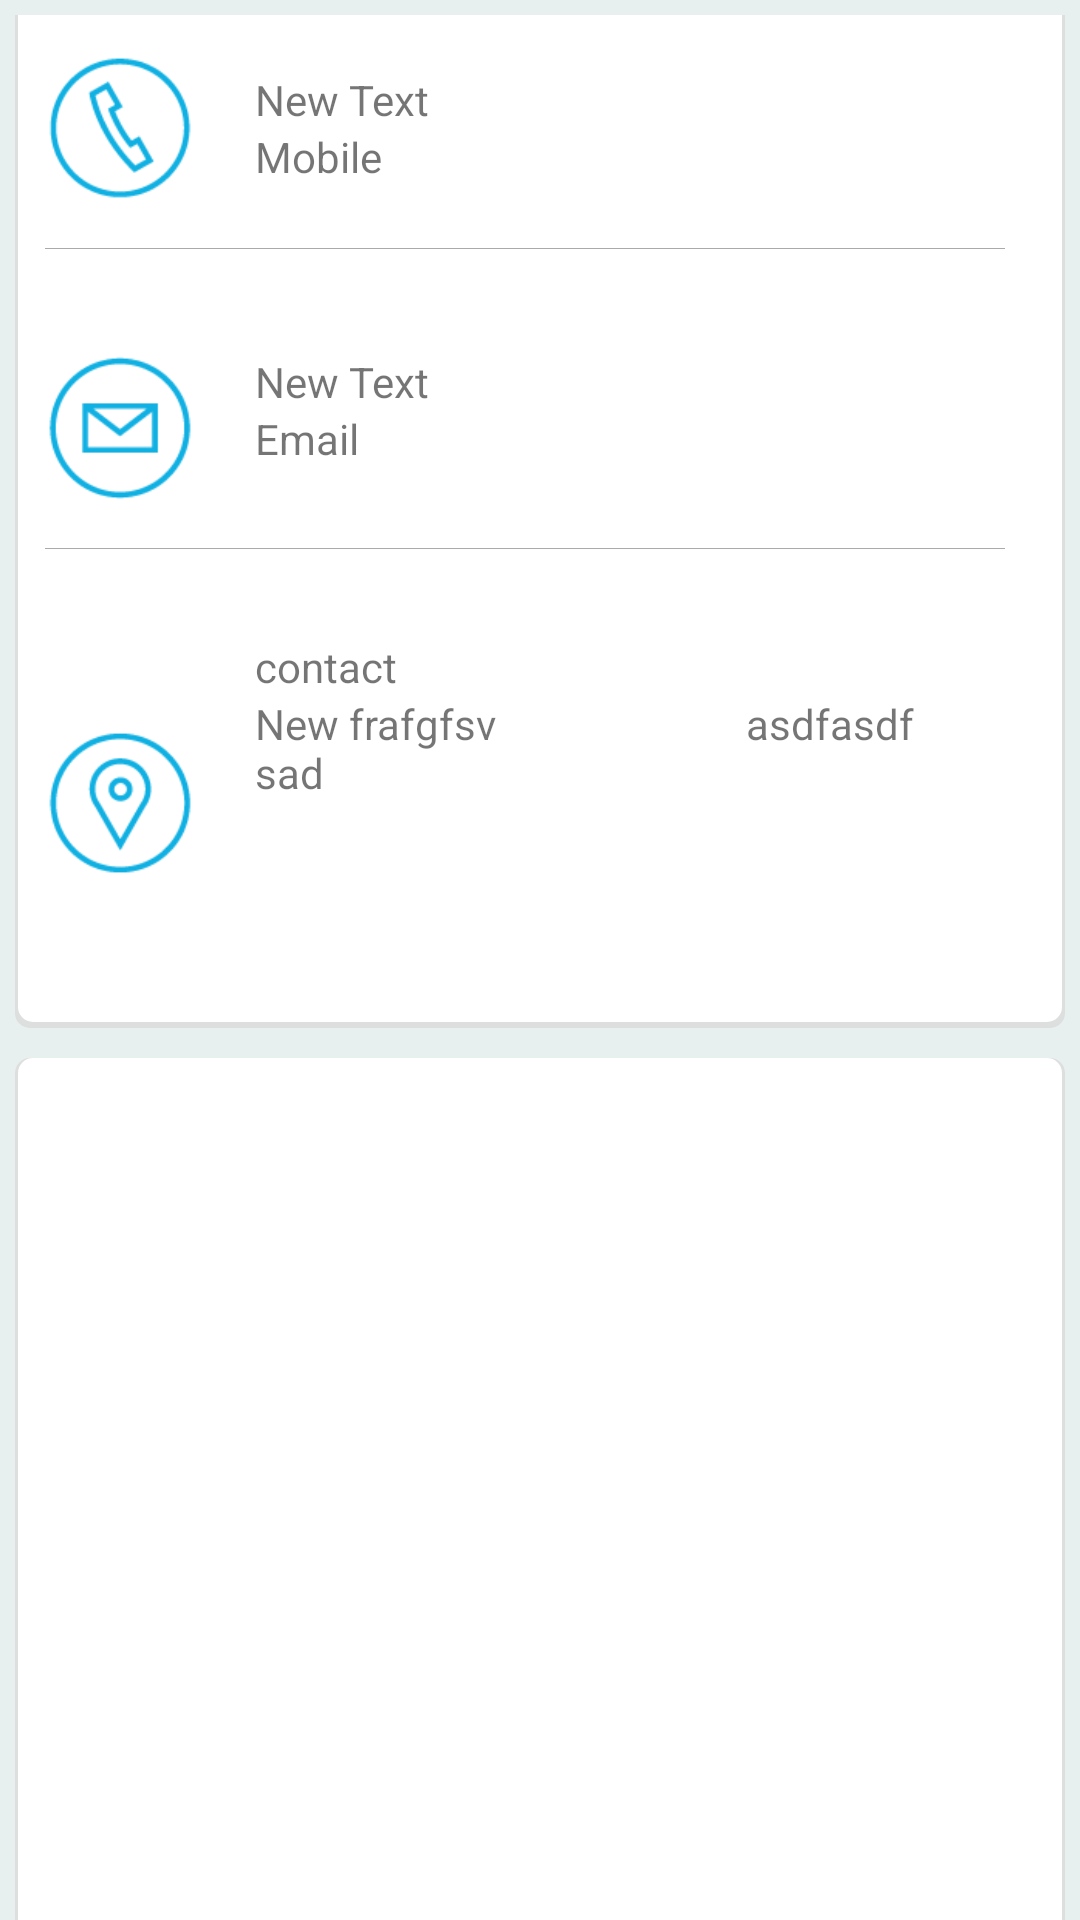

Named icons in this screenshot (1080x1920) and their bounding boxes, (x1, y1, x2, y2):
location: (49, 733, 191, 873)
message: (49, 357, 191, 499)
phone: (49, 58, 191, 198)
